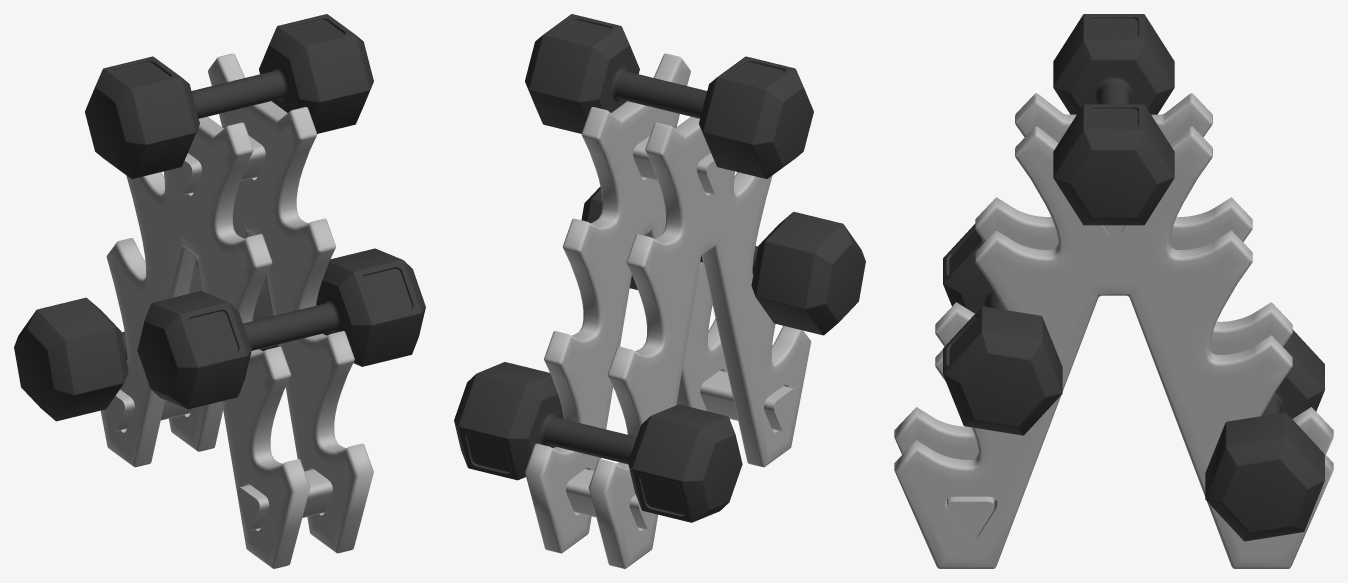
3 views of the same model, side by side, from view 1: azimuth 30°, elevation 25°; view 2: azimuth 150°, elevation 25°; view 3: azimuth 270°, elevation 25° (orthographic). The views are drawn at different scales.
Parts seen in each view (by area): view 1: Object_5, Object_2, Object_3, Object_4, Object_6; view 2: Object_5, Object_2, Object_4, Object_3, Object_6; view 3: Object_5, Object_2, Object_4, Object_3, Object_6.
Part boxes in pixels (left/top/right/bottom): Object_5: left=100, top=53, right=373, bottom=568; Object_2: left=85, top=14, right=373, bottom=178; Object_3: left=137, top=248, right=425, bottom=409; Object_4: left=14, top=275, right=278, bottom=421; Object_6: left=106, top=135, right=323, bottom=530; Object_5: left=525, top=53, right=811, bottom=568; Object_2: left=525, top=14, right=813, bottom=178; Object_4: left=454, top=362, right=742, bottom=522; Object_3: left=581, top=187, right=865, bottom=335; Object_6: left=574, top=135, right=796, bottom=530; Object_5: left=894, top=93, right=1333, bottom=568; Object_2: left=1053, top=14, right=1174, bottom=225; Object_4: left=1205, top=329, right=1324, bottom=541; Object_3: left=943, top=224, right=1062, bottom=435; Object_6: left=945, top=225, right=1260, bottom=540.
Size of the model in its own units: 56.25 by 96.94 by 81.08.
2 materials, 1 textured.
